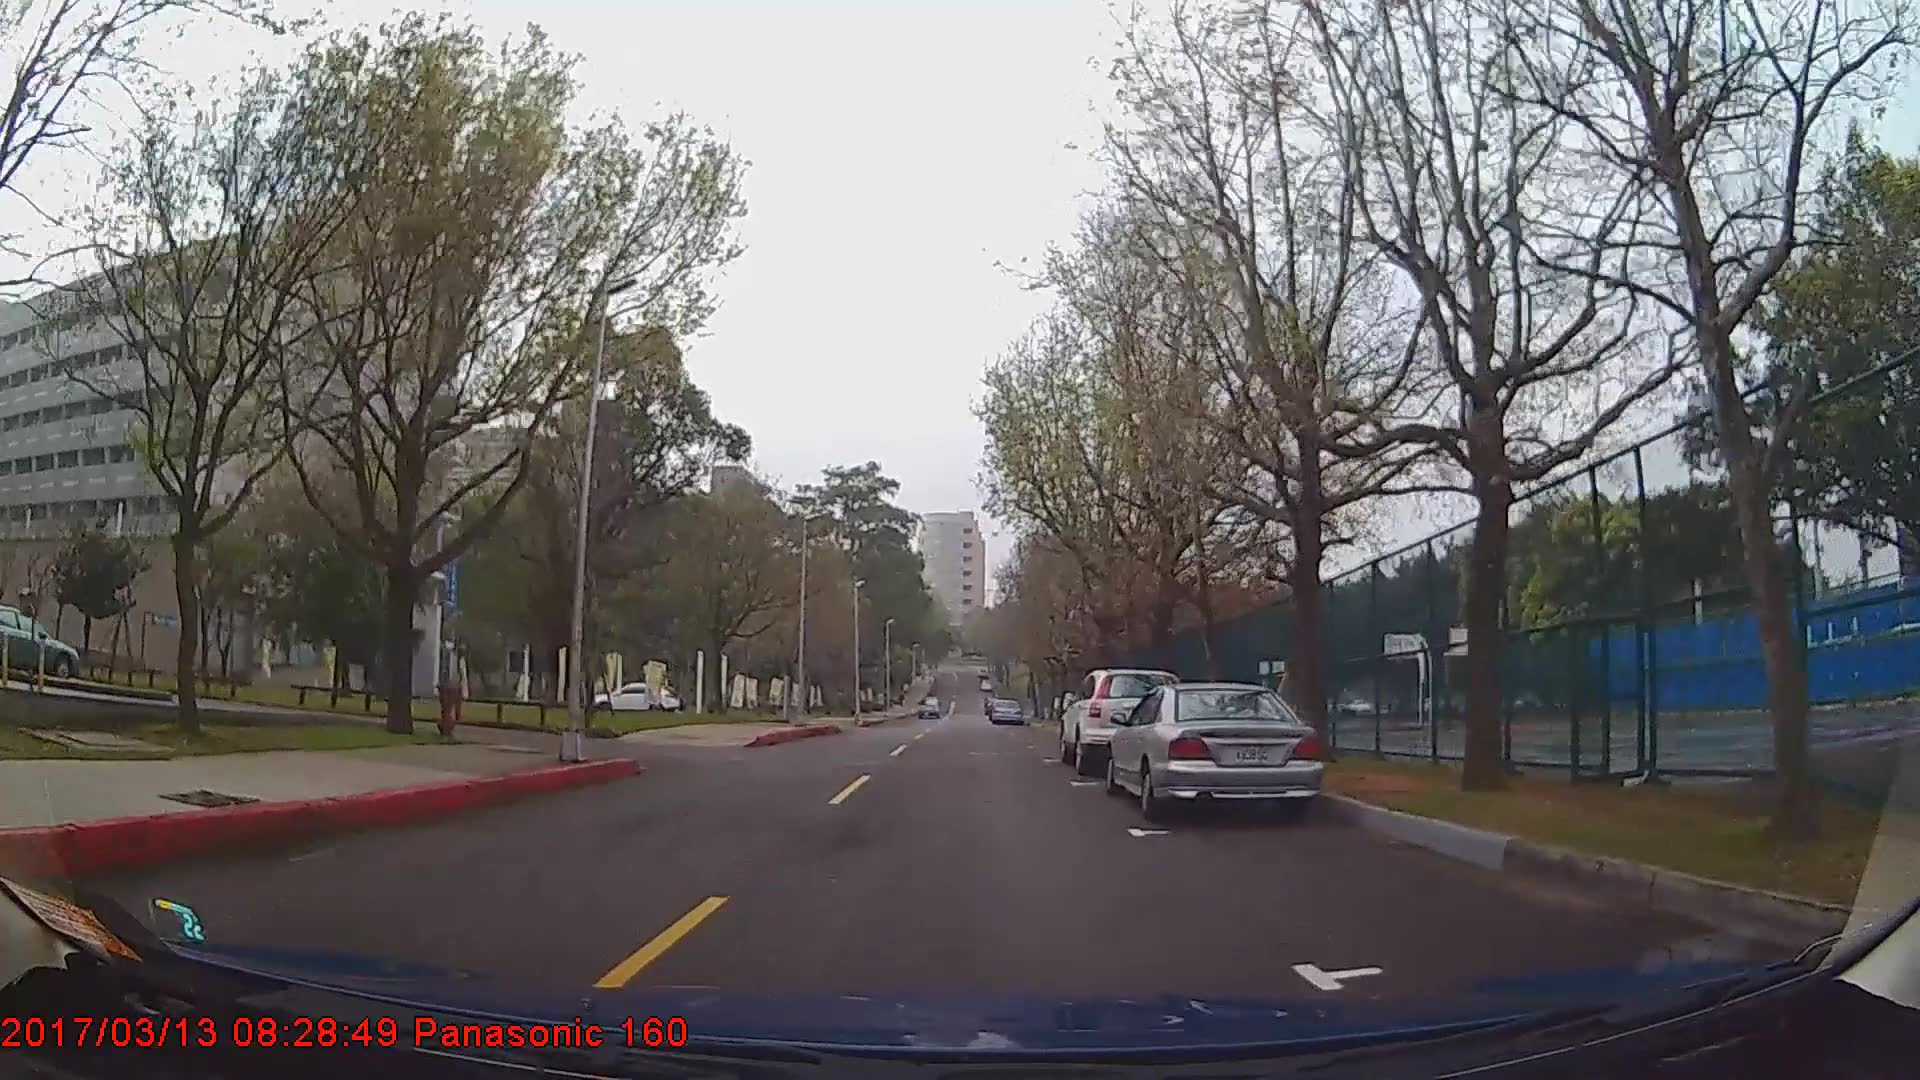vehicle: (1104, 682, 1323, 819), (1058, 669, 1180, 773), (0, 601, 75, 684), (592, 680, 682, 713), (988, 696, 1022, 723)
